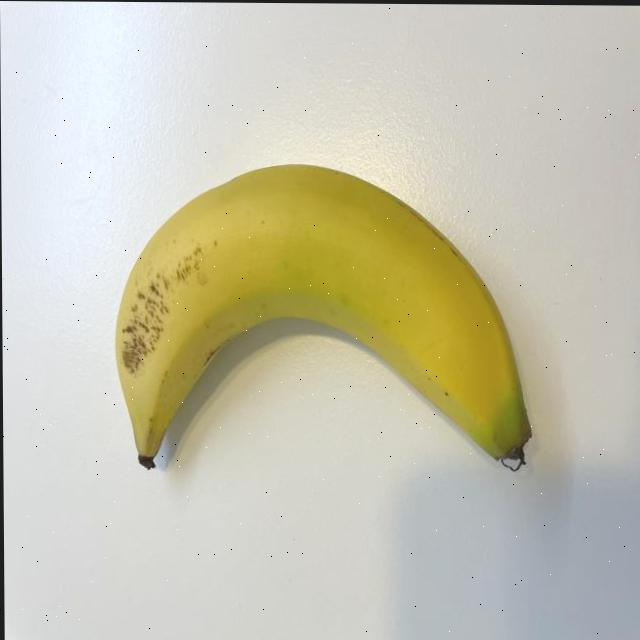banana: (108, 158, 534, 485)
